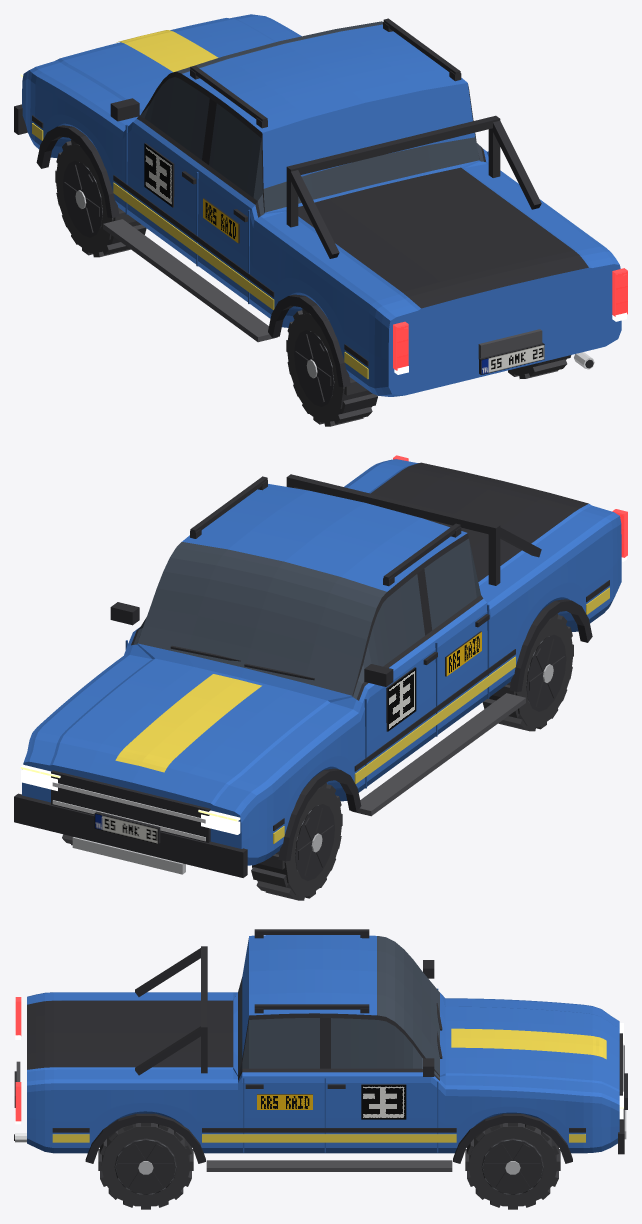
The model's file is mammoth.glb.
The picture shows the model from 3 angles, top to bottom: view 1: azimuth 30°, elevation 25°; view 2: azimuth 150°, elevation 25°; view 3: azimuth 270°, elevation 25°; orthographic projection. The views are drawn at different scales.
Parts seen in each view (by area): view 1: body.014, livery.014, wheel_RL.014, wheel_FL.014, wheel_RR.014; view 2: body.014, livery.014, wheel_FL.014, wheel_RL.014; view 3: body.014, livery.014, wheel_FR.014, wheel_RR.014.
Boxes of the visible parts, box(x1,y1,x2,y2) form: body.014: box(14, 14, 627, 396); livery.014: box(32, 30, 368, 378); wheel_RL.014: box(286, 309, 377, 426); wheel_FL.014: box(55, 139, 146, 257); wheel_RR.014: box(508, 355, 571, 378); body.014: box(14, 455, 627, 877); livery.014: box(115, 580, 609, 843); wheel_FL.014: box(251, 783, 342, 900); wheel_RL.014: box(482, 613, 573, 731); body.014: box(14, 929, 627, 1171); livery.014: box(52, 1028, 606, 1142); wheel_FR.014: box(465, 1123, 560, 1209); wheel_RR.014: box(98, 1123, 193, 1209).
Size of the model in its own units: 2.25 by 1.94 by 5.47.
18 materials, 6 textured.
